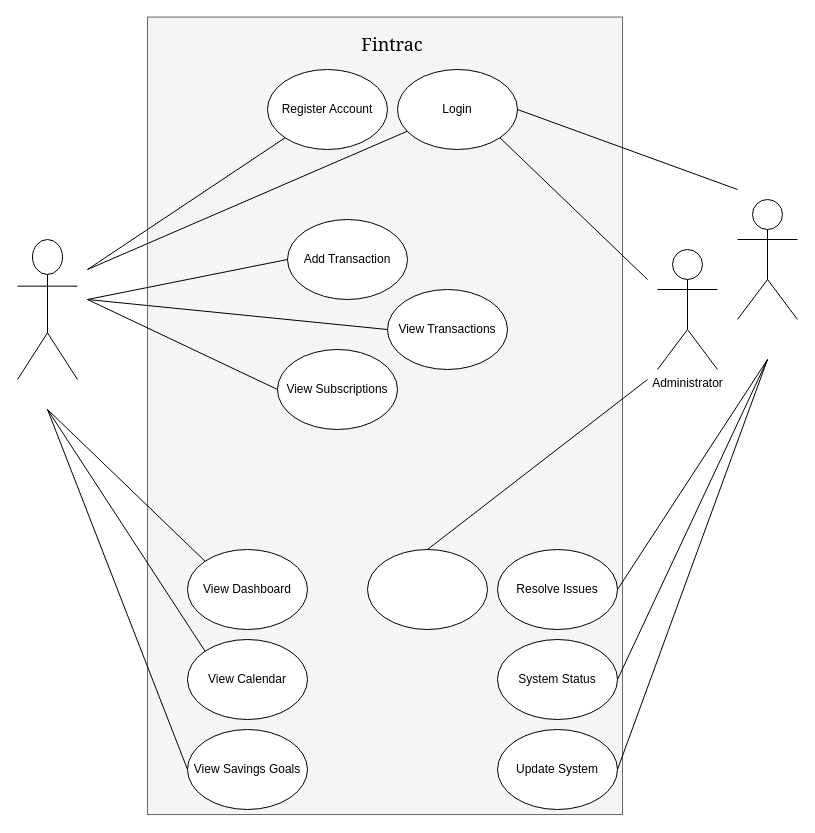
The diagram is 815 pixels wide and 833 high, and some of its shapes have lost their labels. The centre of each missing label's shape, as x and y in pixels:
"Manage User Accounts" belongs at [427,589].
"System Maintainer" belongs at [767,259].
"User" belongs at [47,309].
